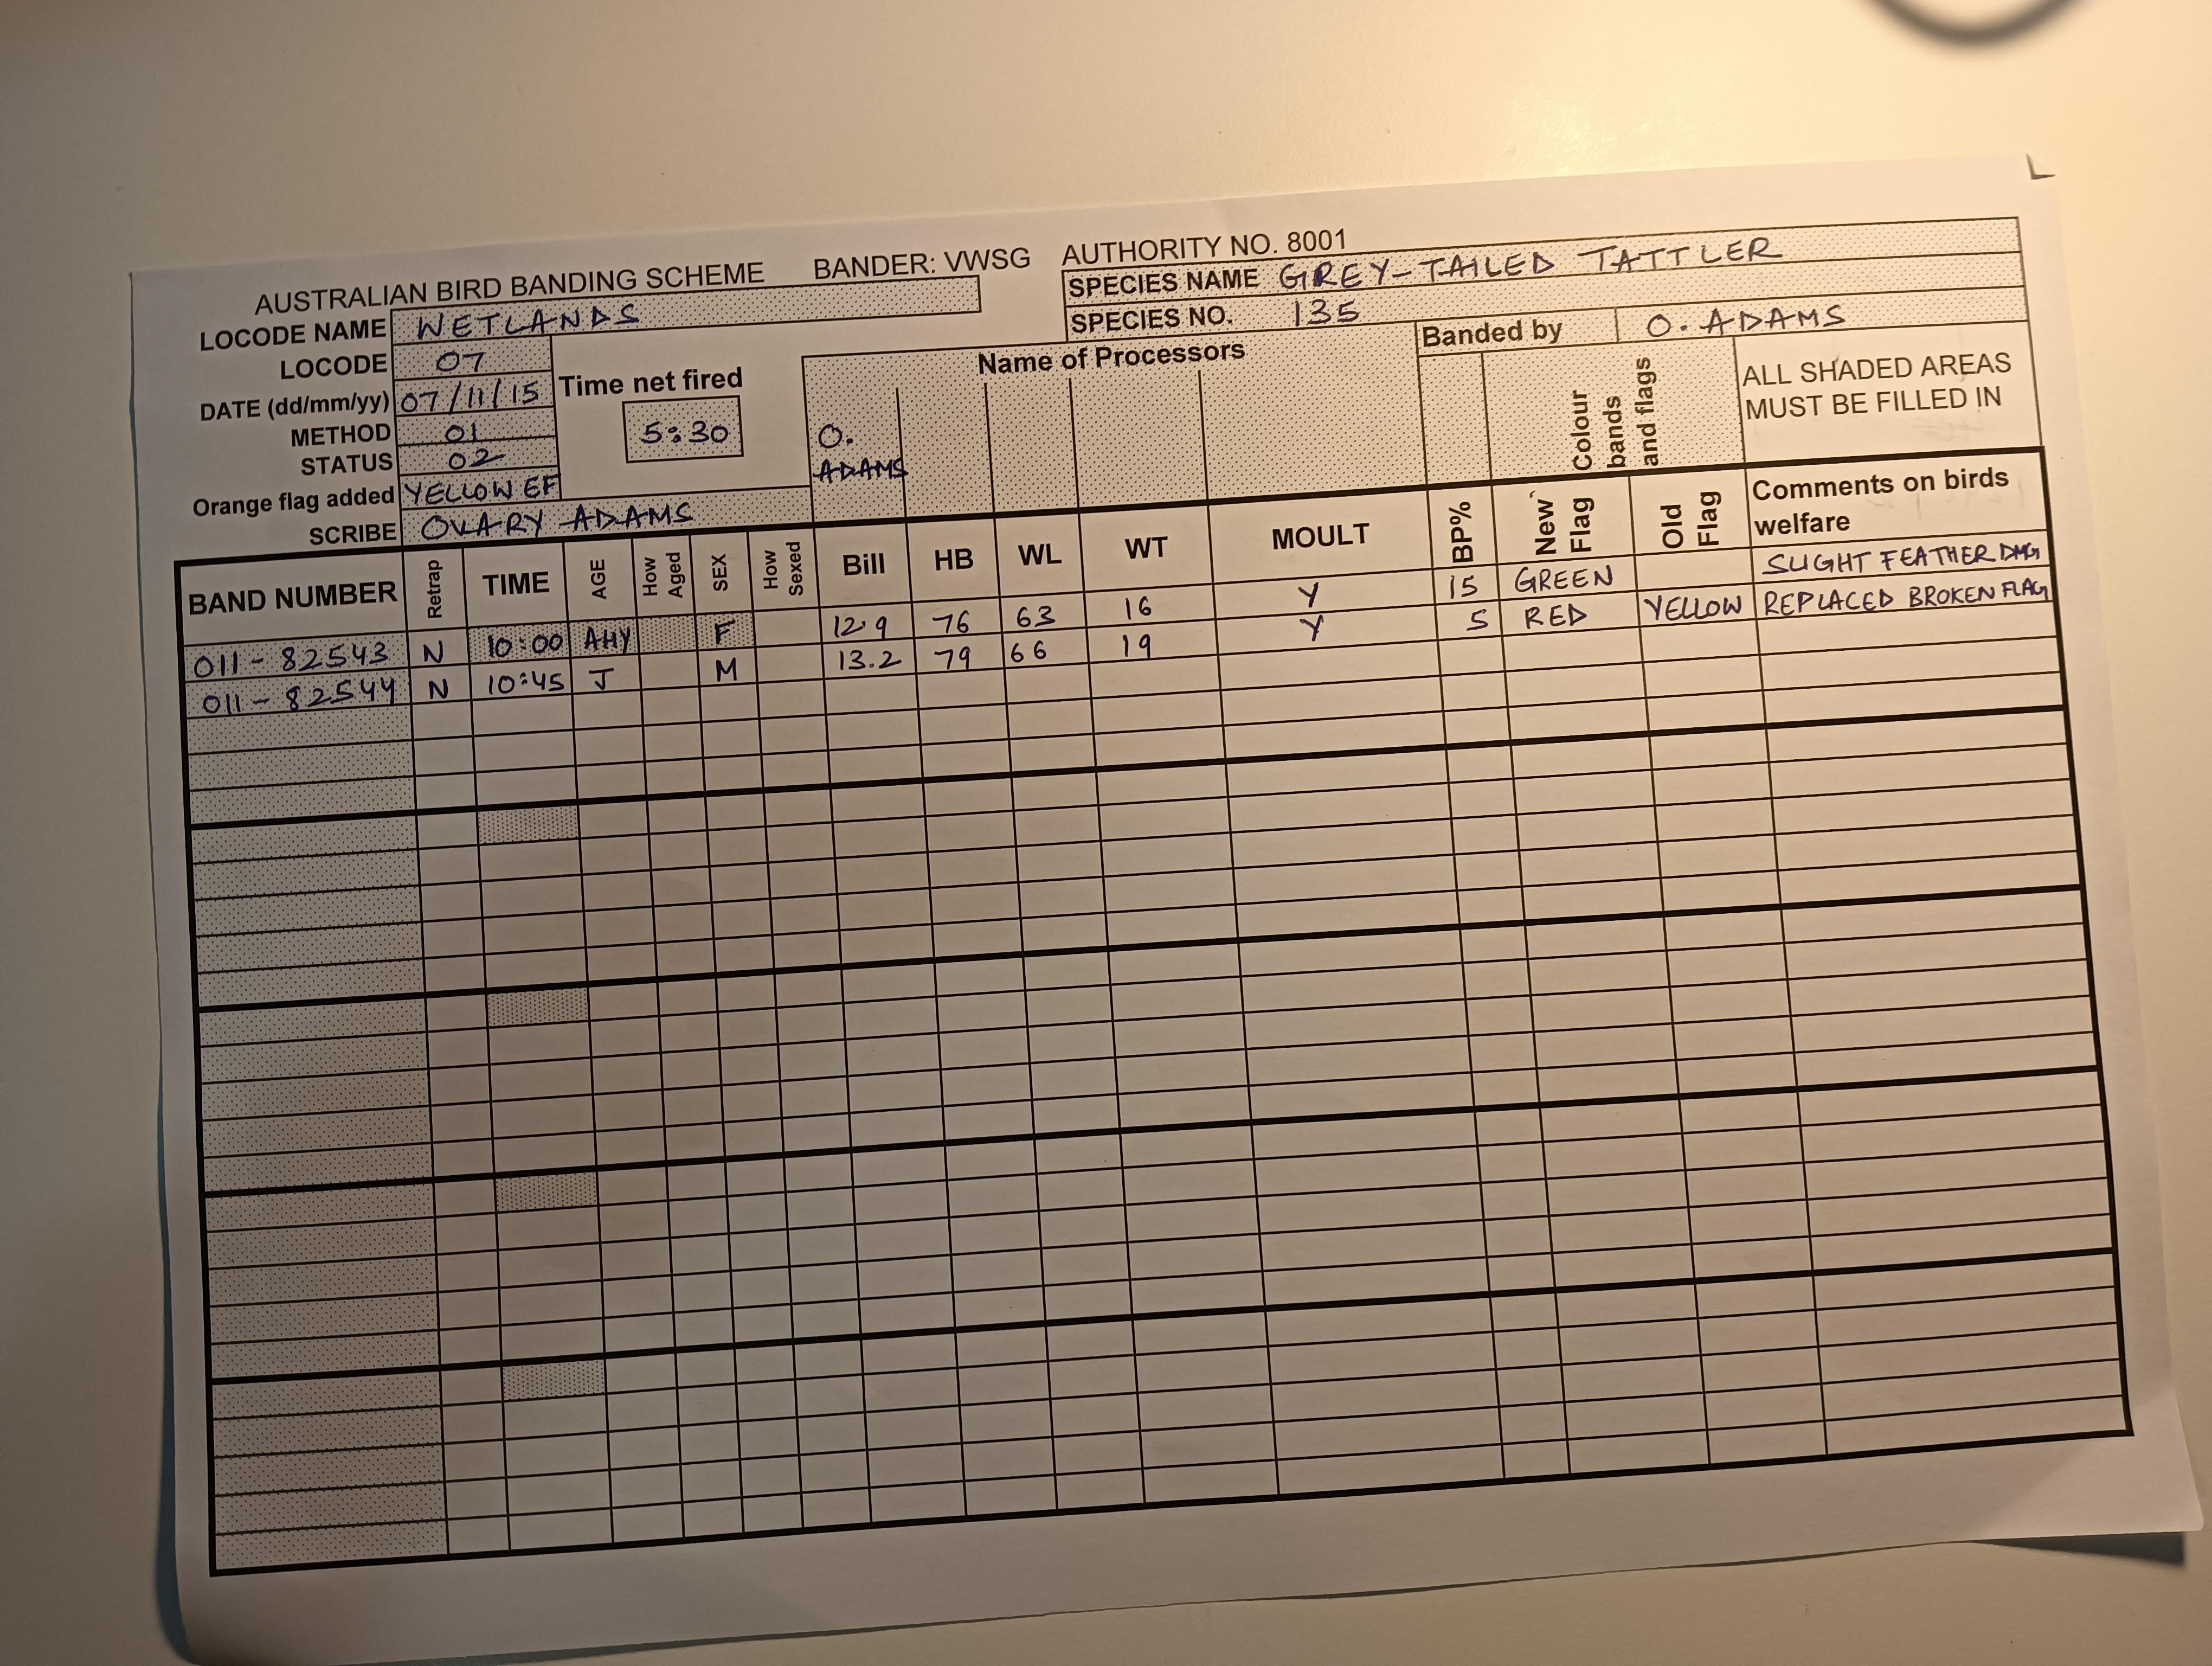BANDED_BY: (1415, 285, 2027, 355)
DATA: (182, 527, 2053, 681), (182, 567, 2055, 714)
DATE: (177, 371, 554, 429)
LOCOCODE: (247, 338, 547, 385)
LOCOCODE_NAME: (187, 276, 983, 359)
METHOD: (271, 406, 554, 450)
NAME_OF_PROCESSORS: (808, 397, 916, 525)
ORANGE_FLAG_ADDED: (292, 487, 813, 551), (182, 467, 565, 523)
SPECIES_NAME: (1061, 217, 2021, 305)
SPECIES_NO: (1065, 250, 2025, 340)
STATUS: (273, 437, 558, 483)
TIME_NET_FIRED: (556, 352, 762, 472)
